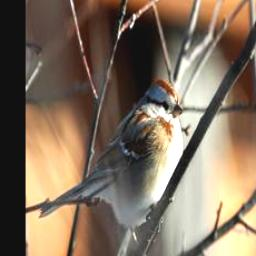Sparrow: (36, 76, 185, 241)
